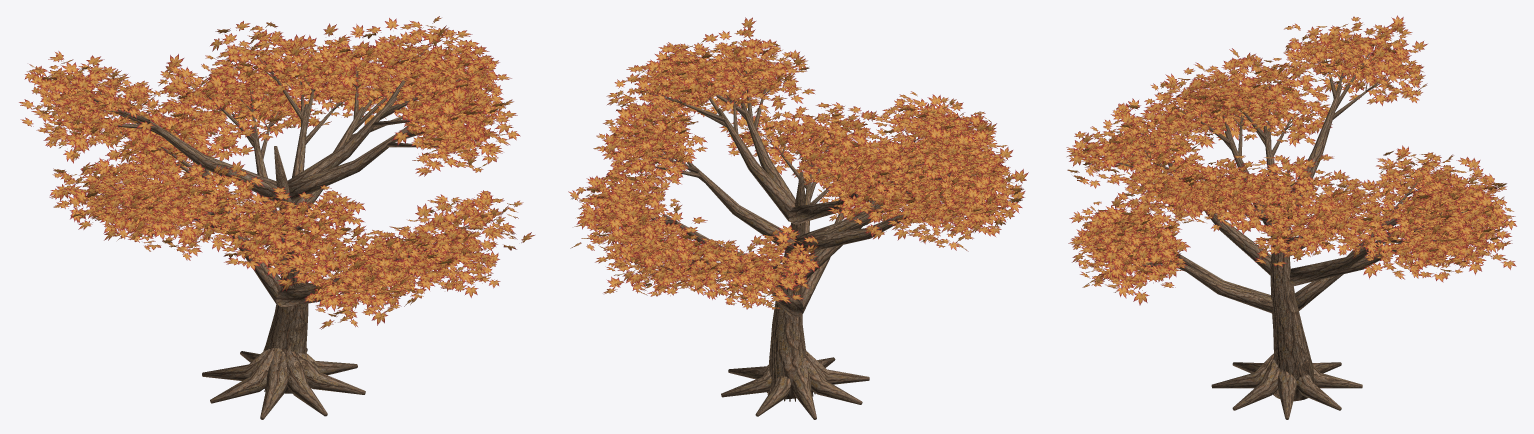
Rendered from MaplePolish_2_Near.fbx.
The picture shows the model from 3 angles, left to right: view 1: azimuth 30°, elevation 25°; view 2: azimuth 150°, elevation 25°; view 3: azimuth 270°, elevation 25°; orthographic projection. The views are drawn at different scales.
Visible parts, largest first — view 1: MaplePolish_2_Near_Leaves, MaplePolish_2_Near_Wood; view 2: MaplePolish_2_Near_Leaves, MaplePolish_2_Near_Wood; view 3: MaplePolish_2_Near_Leaves, MaplePolish_2_Near_Wood.
Boxes of the visible parts, bbox=[...] form: MaplePolish_2_Near_Leaves: bbox=[19, 16, 534, 329]; MaplePolish_2_Near_Wood: bbox=[60, 43, 489, 419]; MaplePolish_2_Near_Leaves: bbox=[568, 17, 1028, 309]; MaplePolish_2_Near_Wood: bbox=[603, 58, 995, 419]; MaplePolish_2_Near_Leaves: bbox=[1066, 15, 1516, 305]; MaplePolish_2_Near_Wood: bbox=[1098, 45, 1497, 419].
Bounding box in the file's own units: 12.13 × 8.68 × 12.2.
